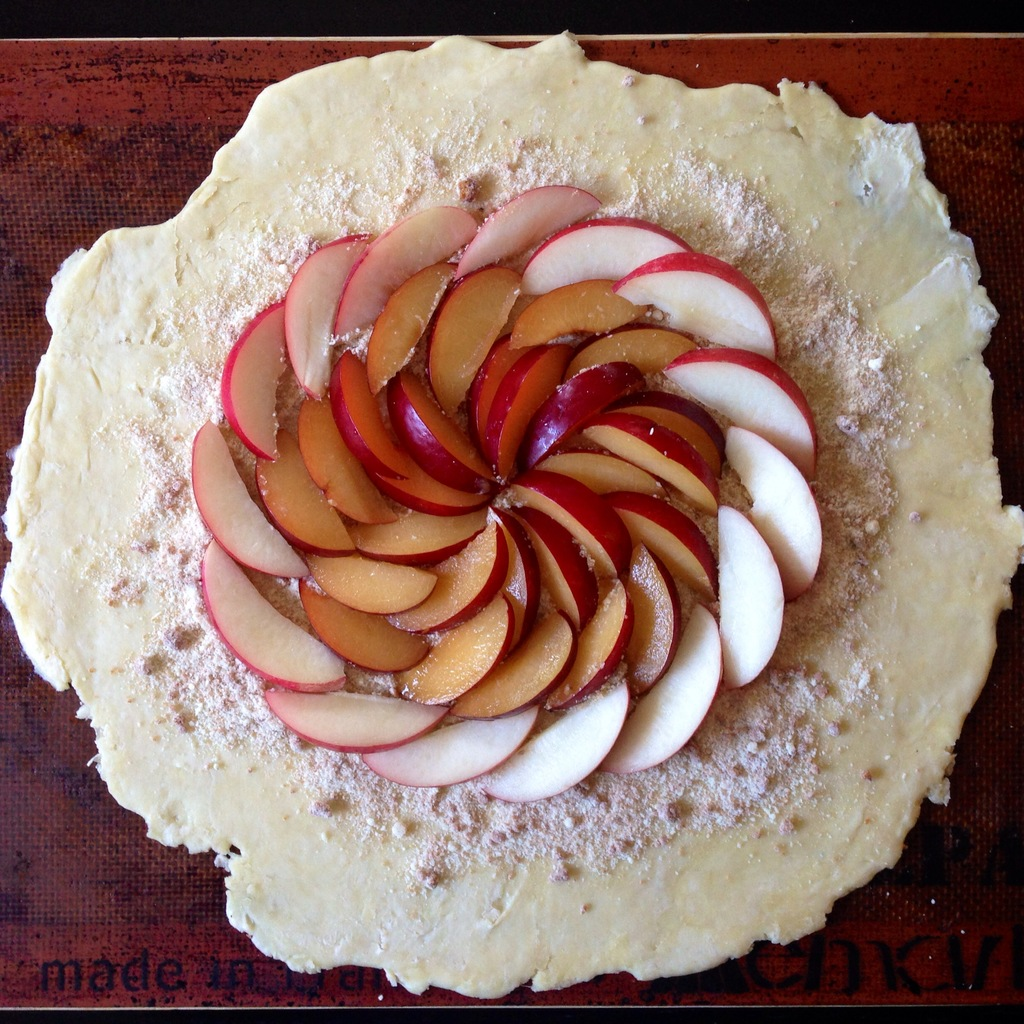Apple: (192, 183, 820, 796), (188, 418, 311, 579)
